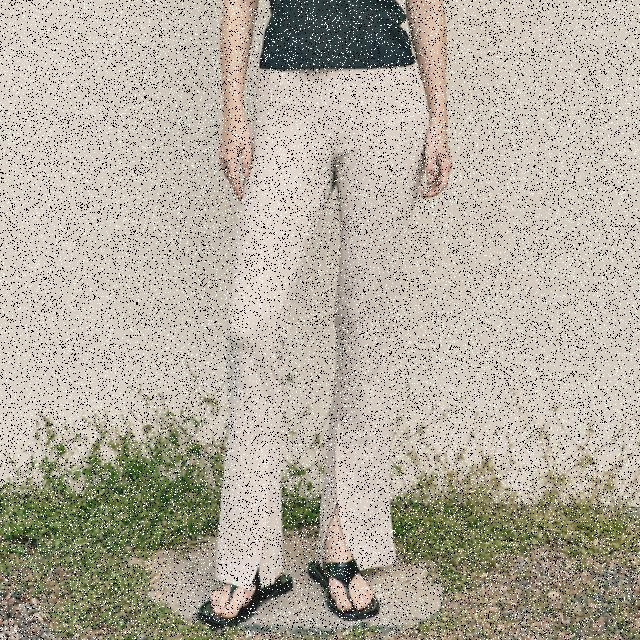dress: (218, 68, 434, 580)
